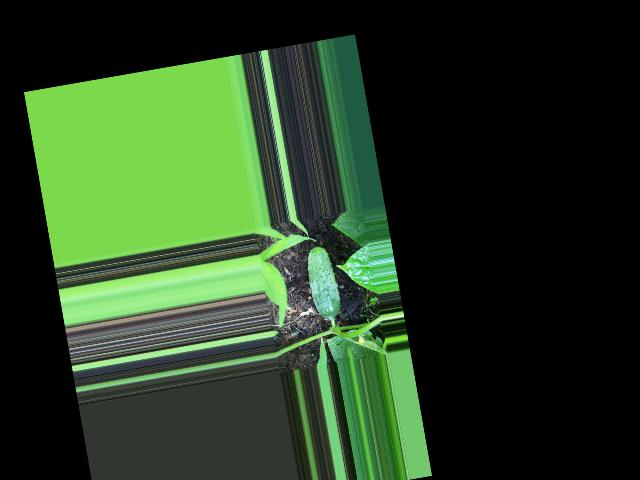cucumber: (302, 243, 342, 321)
